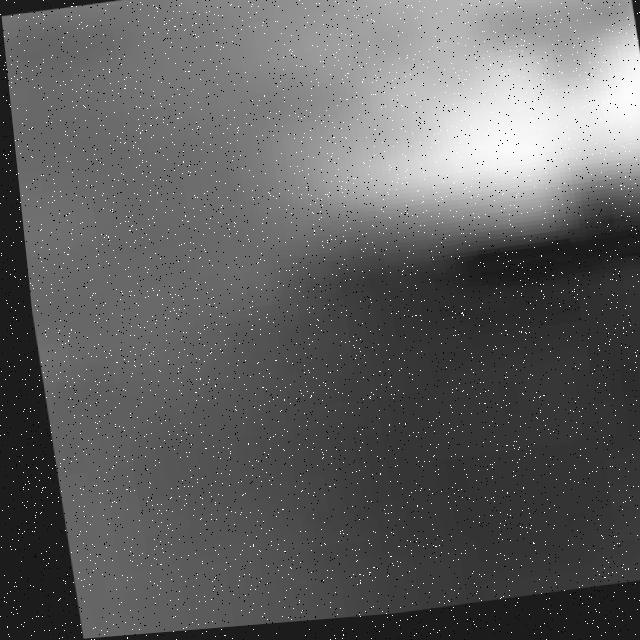person: (221, 1, 640, 277)
